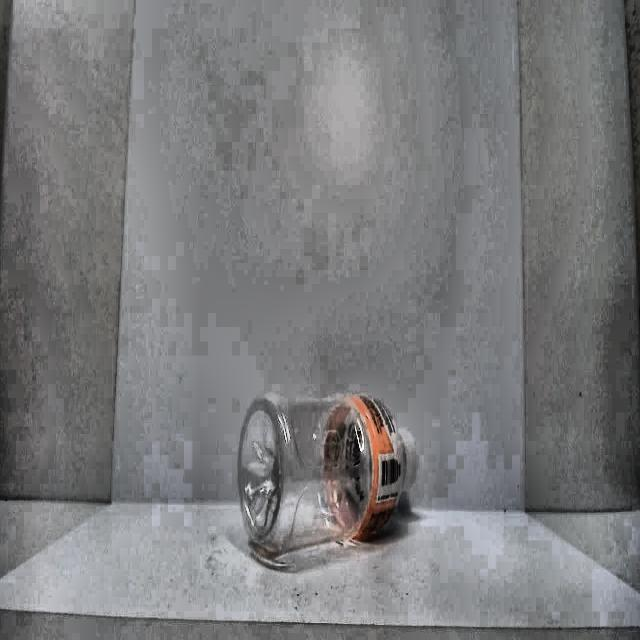Bottles: (235, 384, 422, 565)
